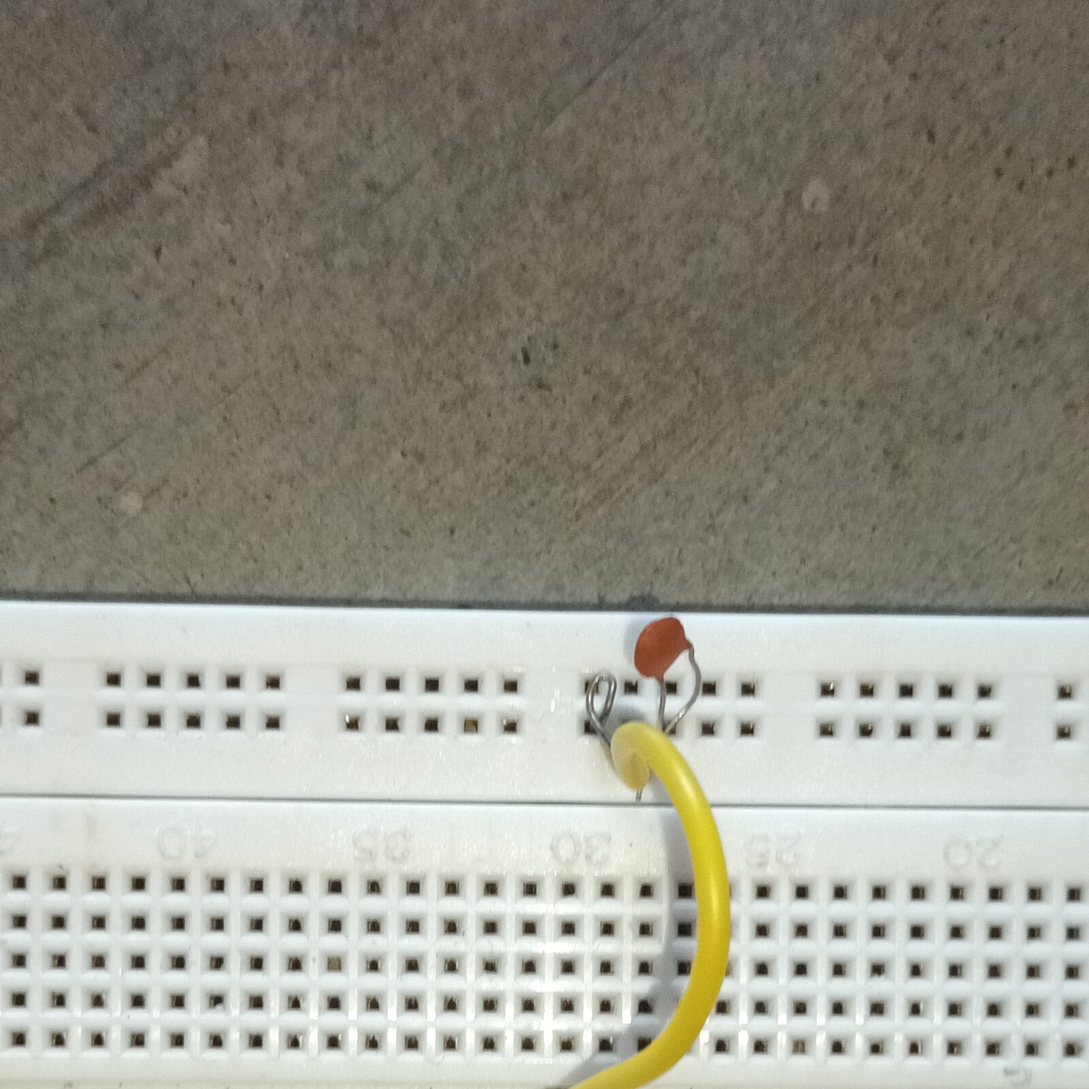capacitor: (631, 612, 696, 687)
